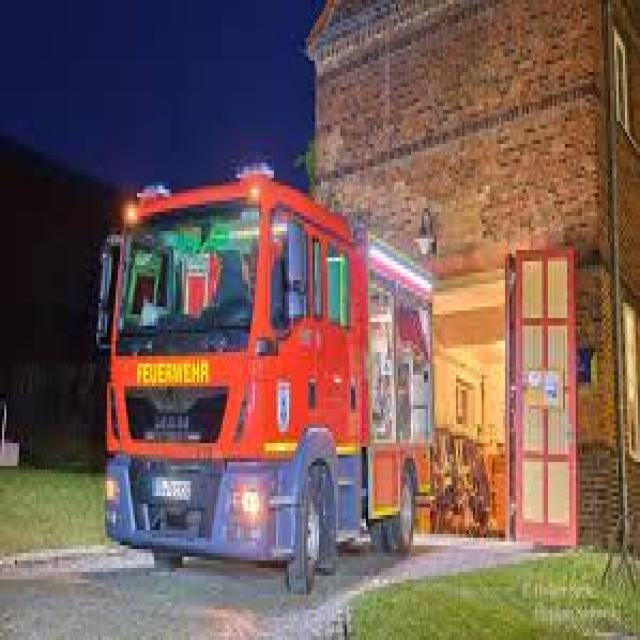Fire_brigade: (92, 136, 441, 602)
